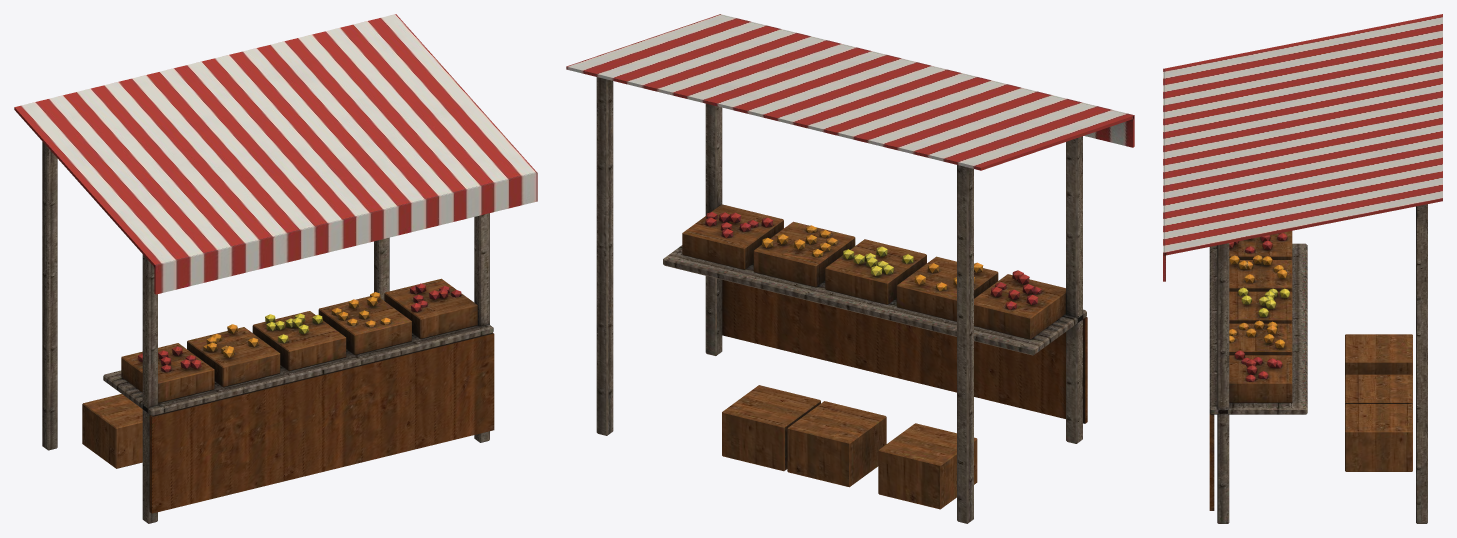
Rendered from market_stall_red.glb.
The picture shows the model from 3 angles, left to right: view 1: azimuth 30°, elevation 25°; view 2: azimuth 150°, elevation 25°; view 3: azimuth 270°, elevation 25°; orthographic projection. The views are drawn at different scales.
Parts seen in each view (by area): view 1: market_stall_red; view 2: market_stall_red; view 3: market_stall_red.
Part boxes in pixels (<box>): market_stall_red: <box>14,14,537,523</box>; market_stall_red: <box>566,14,1134,523</box>; market_stall_red: <box>1163,14,1442,523</box>.
Bounding box in the file's own units: 2.9 × 2.46 × 1.86.
1 material, 1 textured.
